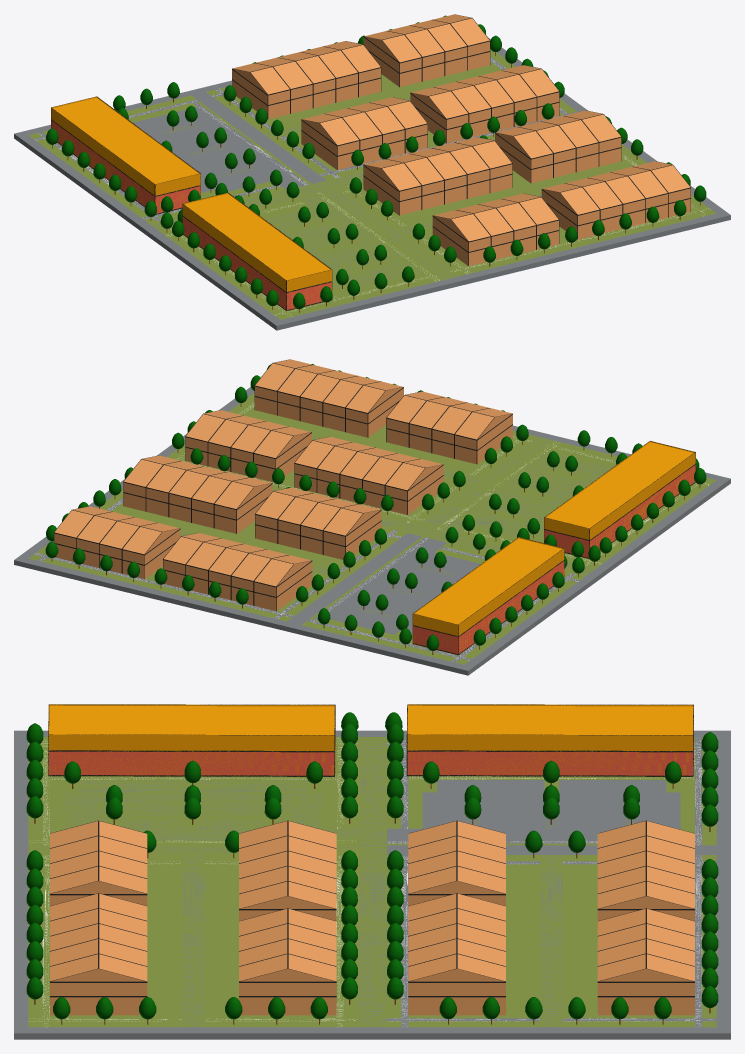
The model's file is townhome_commercial_C.dae.
3 views of the same model, one above another, from view 1: azimuth 30°, elevation 25°; view 2: azimuth 150°, elevation 25°; view 3: azimuth 270°, elevation 25° (orthographic). The views are drawn at different scales.
Visible parts, largest first — view 1: group_1 (×14), Component_10 (×36), _10k_Commercial_1 (×11); view 2: group_1 (×14), Component_10 (×36), _10k_Commercial_1 (×11); view 3: group_1 (×24), Component_10 (×92), _10k_Commercial_1 (×8).
Boxes of the visible parts, <box> form: group_1 (×14): <box>14,37,730,330</box>; Component_10 (×36): <box>251,18,690,241</box>; _10k_Commercial_1 (×11): <box>51,96,332,310</box>; group_1 (×14): <box>14,387,730,675</box>; Component_10 (×36): <box>54,363,493,586</box>; _10k_Commercial_1 (×11): <box>412,441,695,655</box>; group_1 (×24): <box>14,730,730,1039</box>; Component_10 (×92): <box>50,821,694,1015</box>; _10k_Commercial_1 (×8): <box>48,704,693,776</box>.
Bounding box in the file's own units: 102 × 102 × 8.36.
